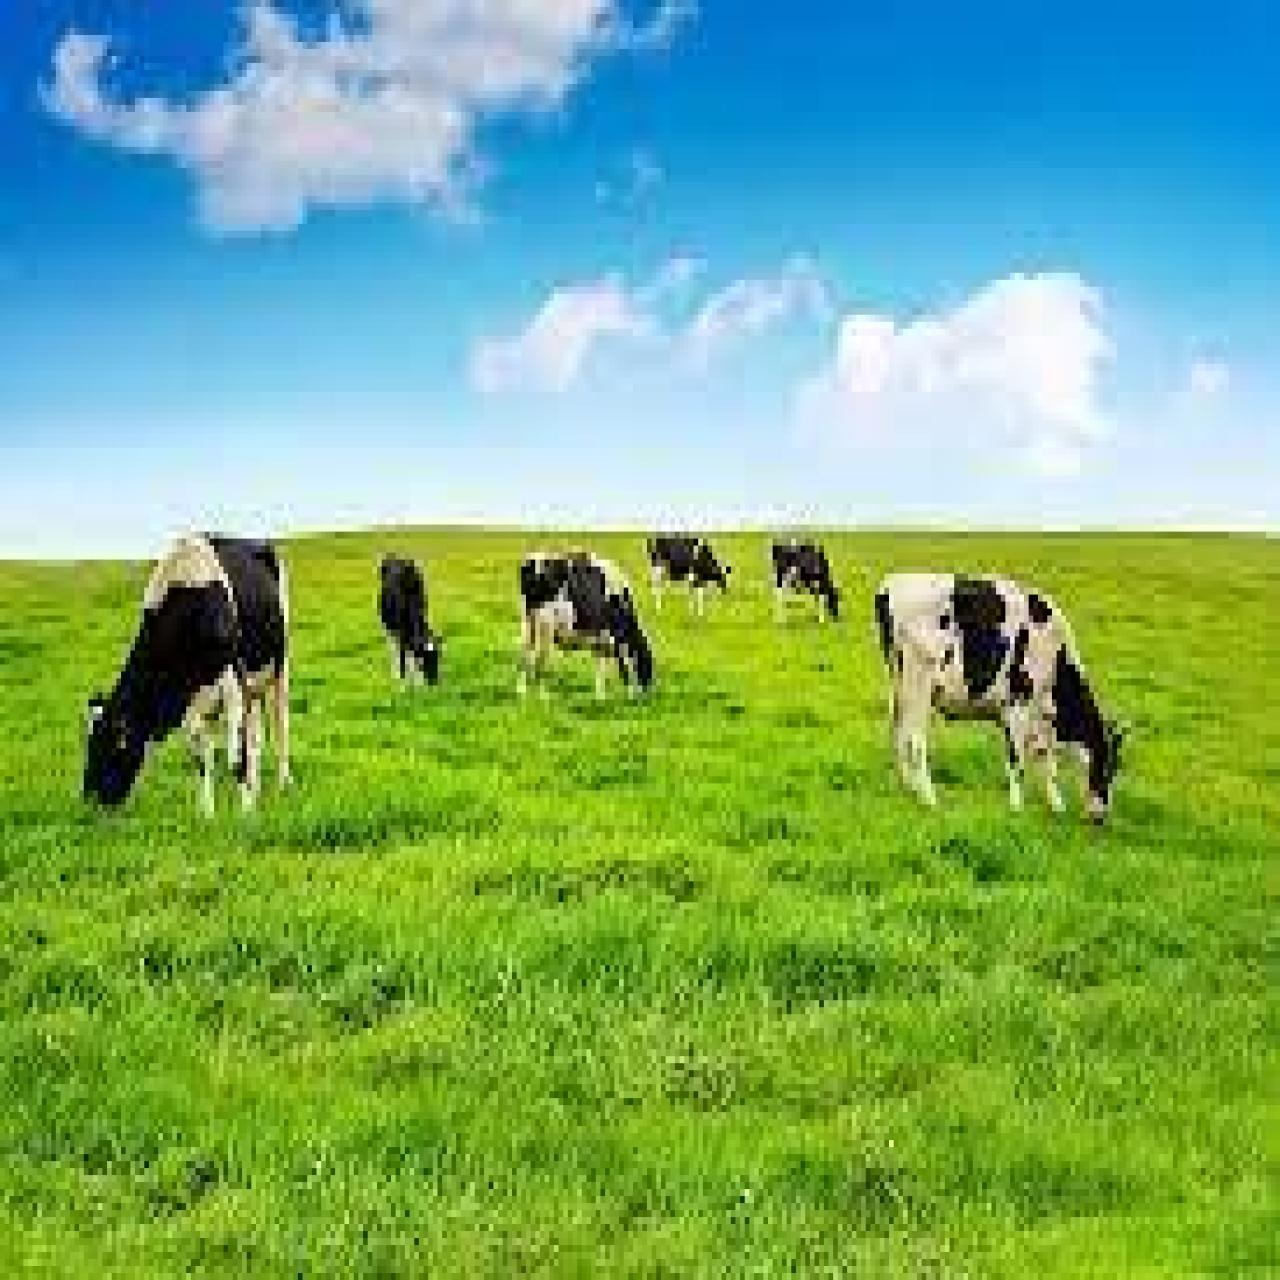cow: (870, 570, 1131, 822), (84, 527, 298, 822), (519, 545, 654, 707), (374, 545, 444, 693), (647, 524, 735, 615), (768, 538, 843, 629)
